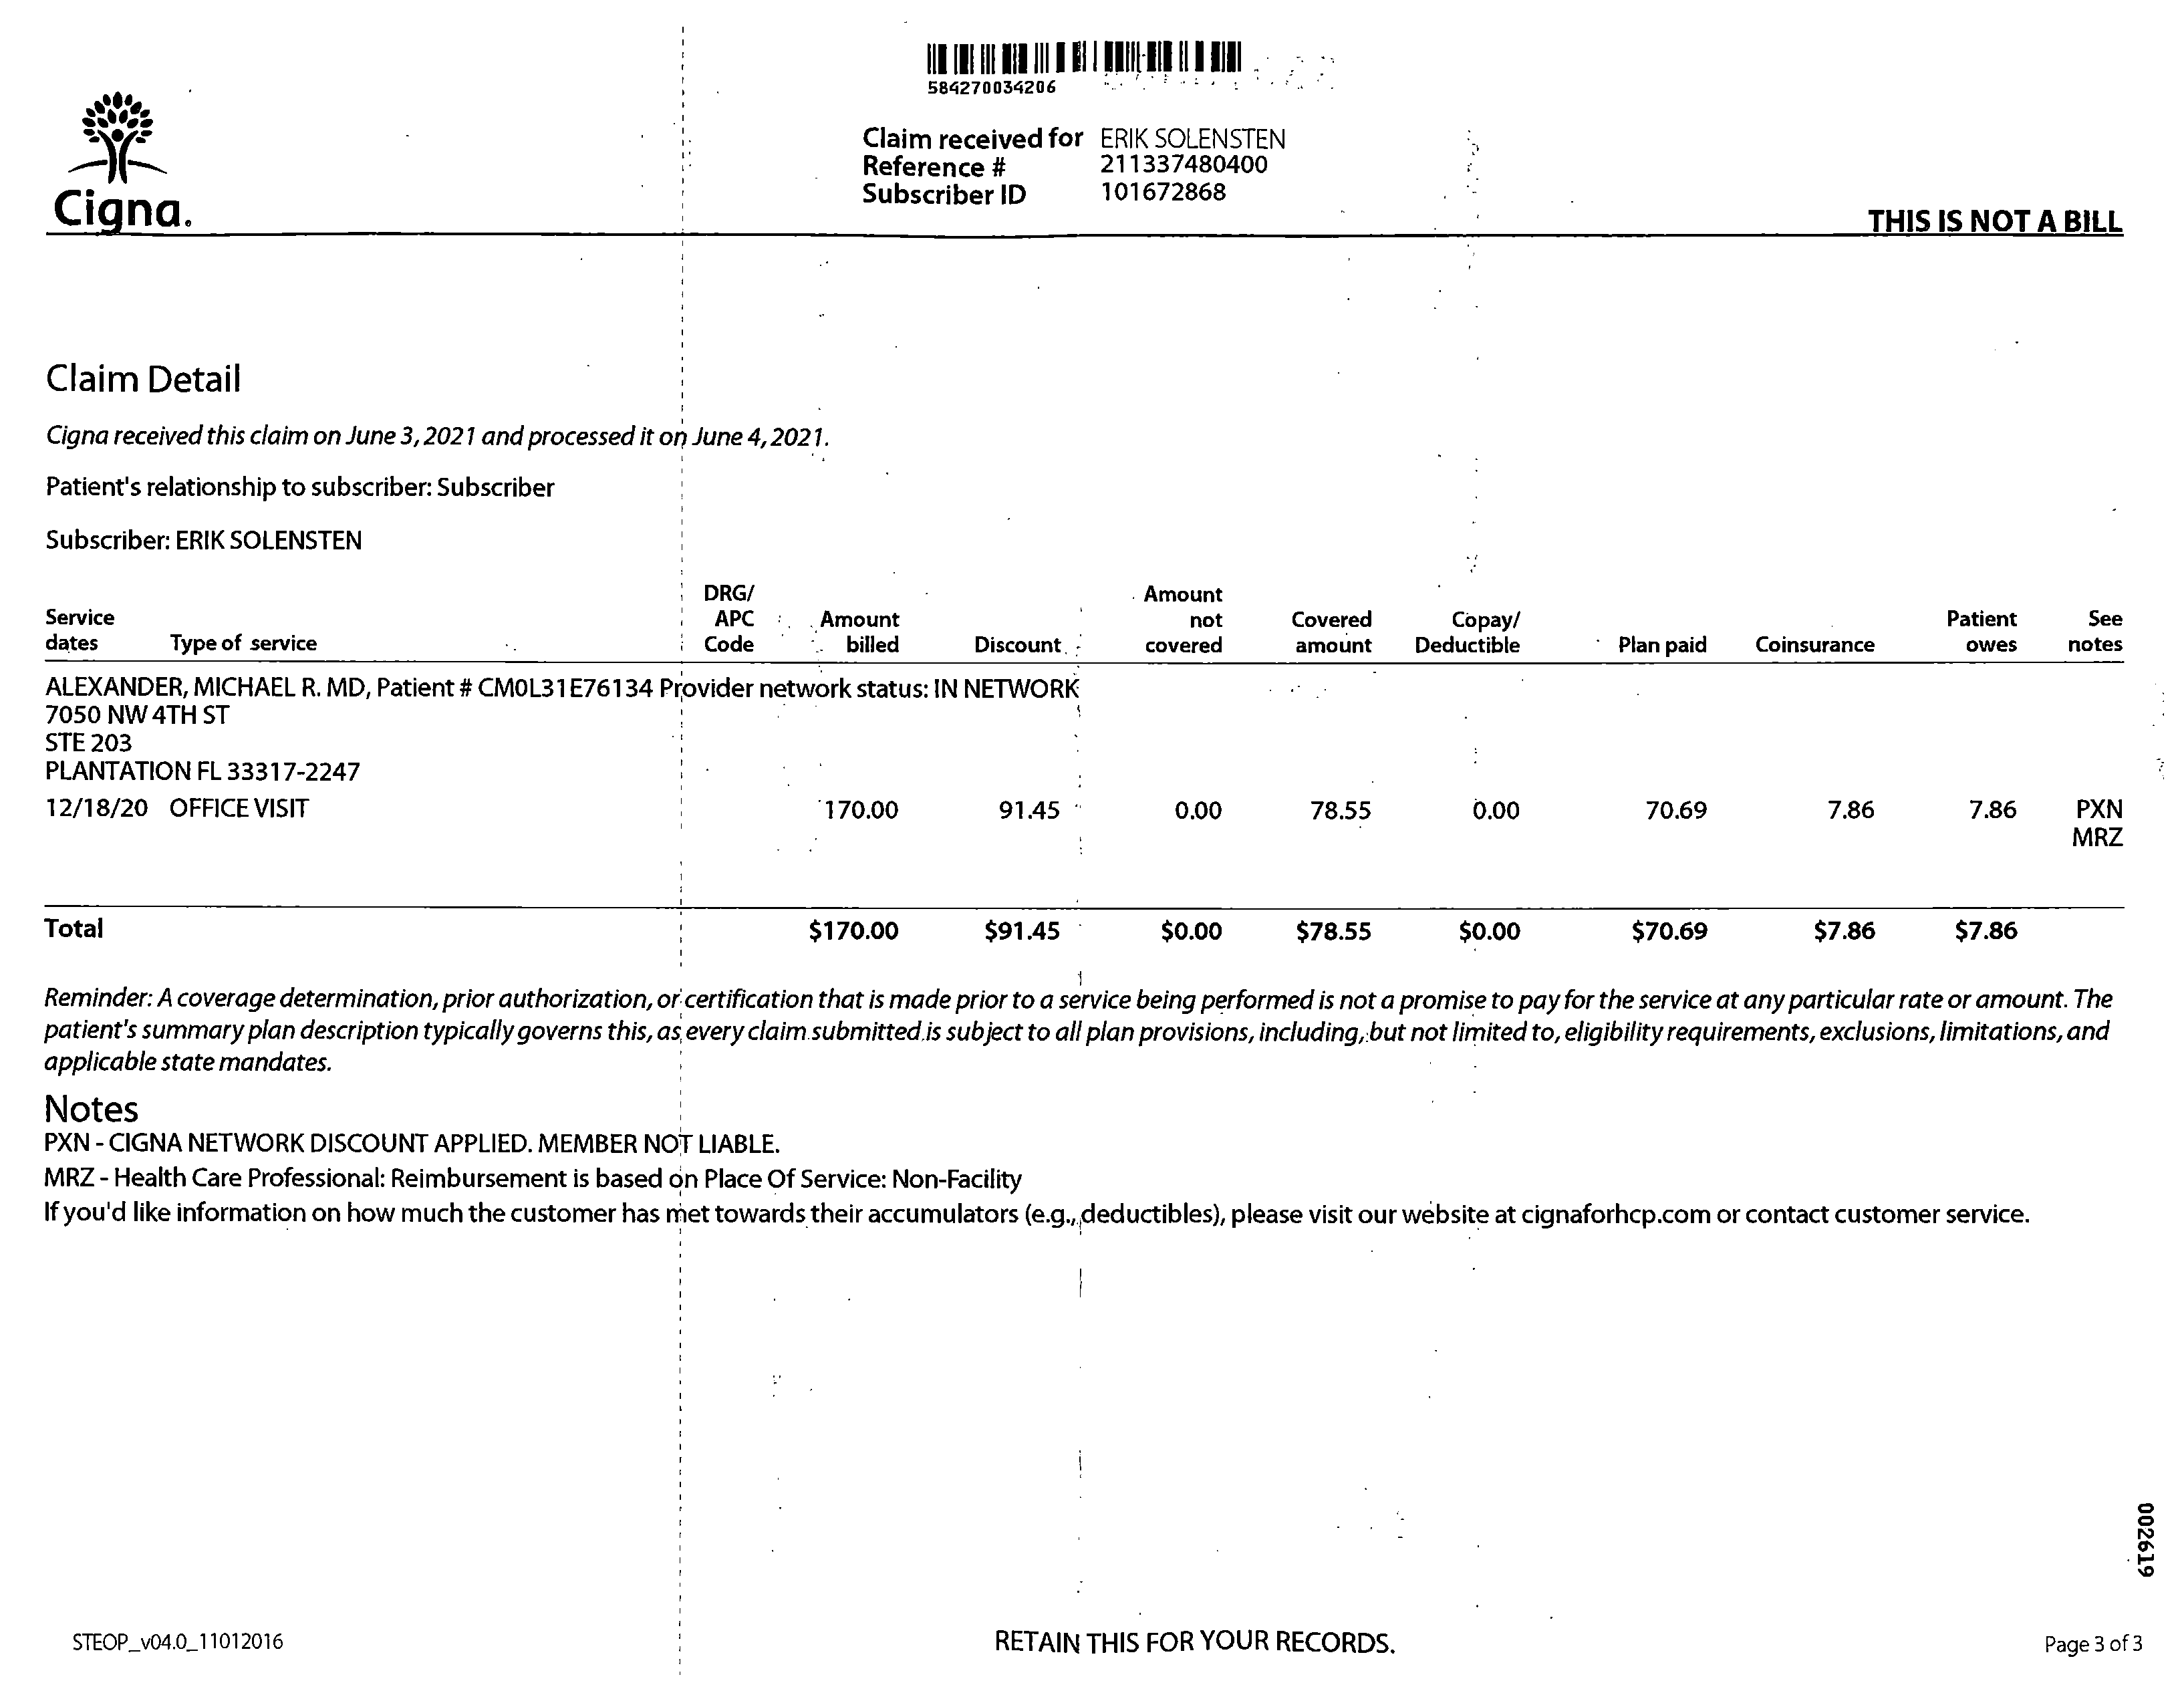table: (25, 590, 2166, 954)
